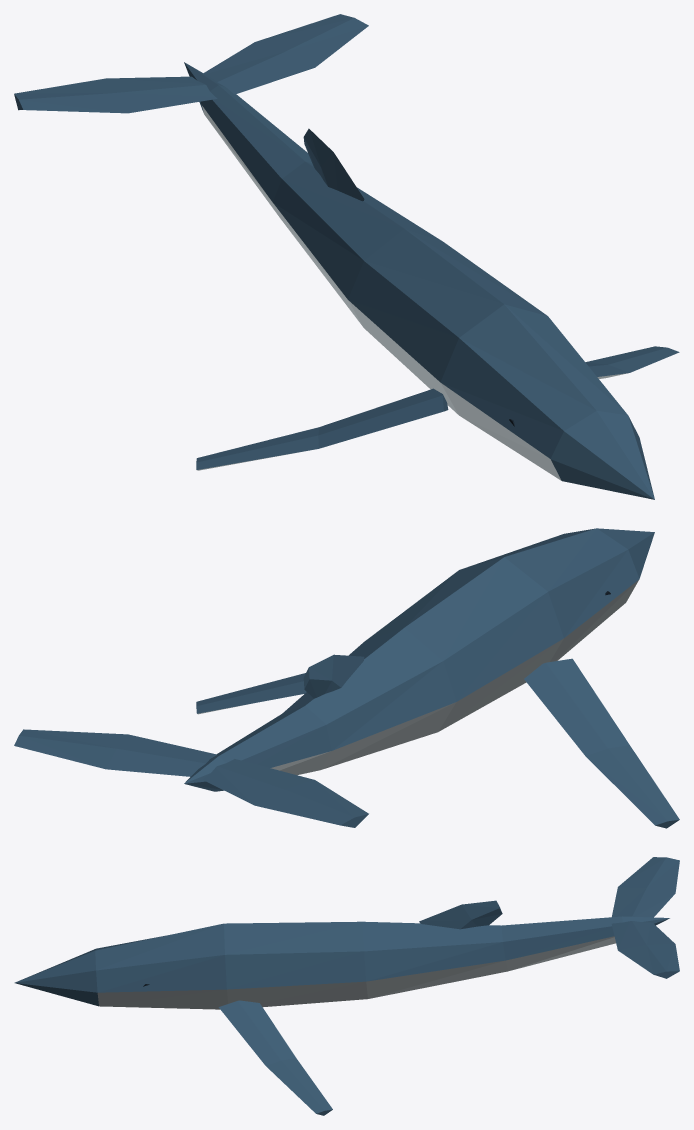
The model's file is whale-hull.gltf.
3 renders of one model, top to bottom at view 1: azimuth 30°, elevation 25°; view 2: azimuth 150°, elevation 25°; view 3: azimuth 270°, elevation 25°, orthographic. The views are drawn at different scales.
Parts seen in each view (by area): view 1: whale; view 2: whale; view 3: whale.
Part boxes in pixels (box(x1,y1,x2,y2)): whale: box(14, 14, 679, 499); whale: box(14, 528, 679, 828); whale: box(14, 857, 679, 1115).
Size of the model in its own units: 1.95 by 0.7524 by 3.35.
